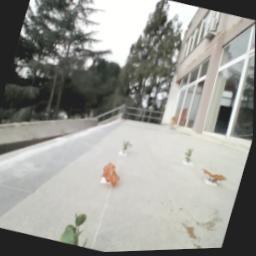herb: (61, 208, 97, 250), (120, 139, 135, 156), (183, 147, 196, 166)
wild: (101, 161, 125, 188), (199, 169, 230, 189)
